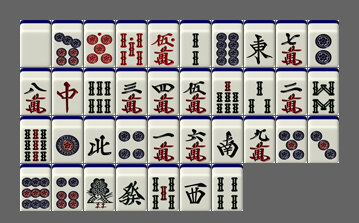0m: (148, 20, 179, 67)
0p: (84, 20, 115, 67)
0s: (116, 20, 147, 67)
1m: (148, 116, 179, 163)
1p: (52, 116, 83, 163)
1s: (84, 164, 115, 211)
1z: (244, 20, 275, 67)
2m: (276, 68, 307, 115)
2p: (308, 20, 339, 67)
2s: (180, 20, 211, 67)
2z: (212, 116, 243, 163)
3m: (116, 68, 147, 115)
3p: (308, 116, 339, 163)
3s: (244, 68, 275, 115)
3z: (180, 164, 211, 211)
4m: (148, 68, 179, 115)
4p: (116, 116, 147, 163)
4s: (212, 164, 243, 211)
4z: (84, 116, 115, 163)
5m: (180, 68, 211, 115)
5p: (276, 116, 307, 163)
5s: (148, 164, 179, 211)
5z: (20, 20, 51, 67)
6m: (180, 116, 211, 163)
6p: (52, 164, 83, 211)
6s: (84, 68, 115, 115)
6z: (116, 164, 147, 211)
7m: (276, 20, 307, 67)
7p: (52, 20, 83, 67)
7s: (212, 68, 243, 115)
7z: (52, 68, 83, 115)
8m: (20, 68, 51, 115)
8p: (212, 20, 243, 67)
8s: (308, 68, 339, 115)
9m: (244, 116, 275, 163)
9p: (20, 164, 51, 211)
9s: (20, 116, 51, 163)
